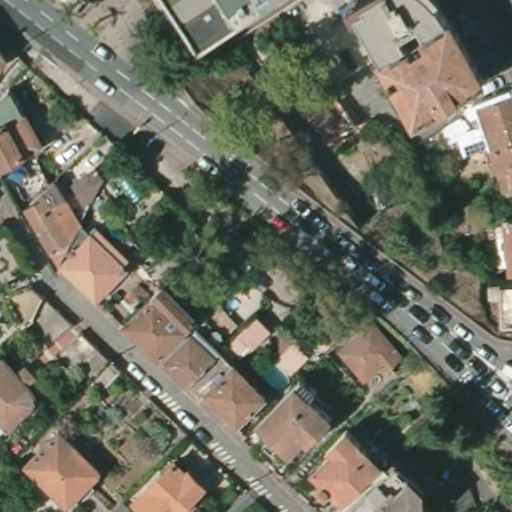pool: (249, 350, 293, 393)
